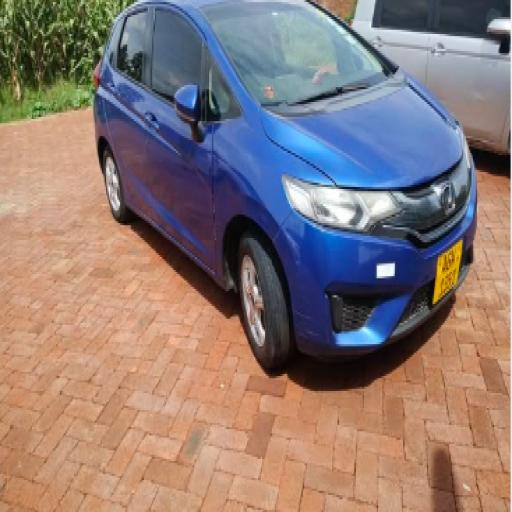number-plates: (433, 242, 460, 292)
